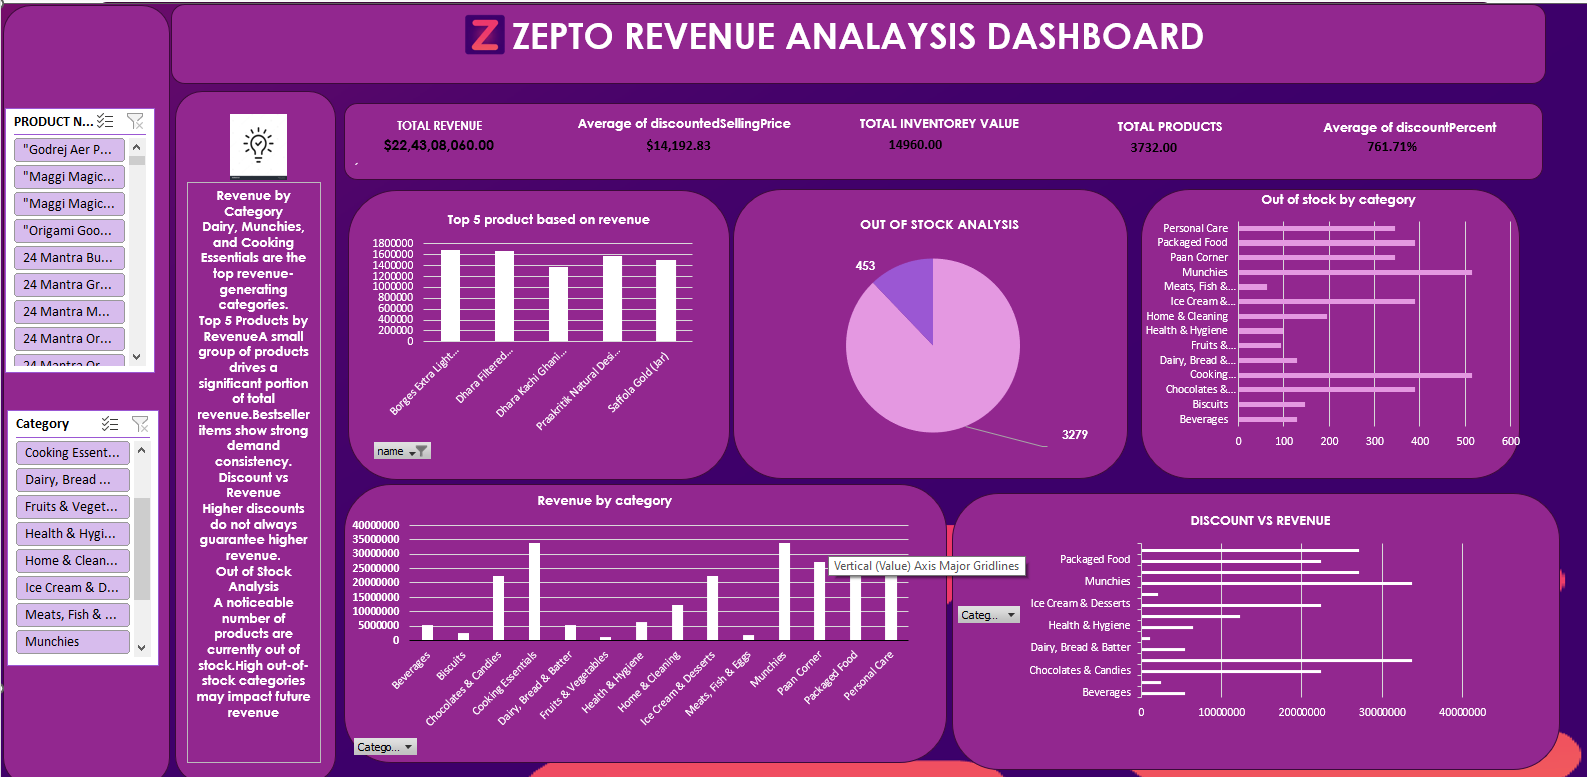

Layout of this report page (visuals, bound fields, positions):
{"tool":"powerbi","page":{"name":"Page 1","canvas":[1280,720],"ordinal":0},"visuals":[{"type":"textbox","box":[749.2,105.7,491.3,70.9],"z":0},{"type":"card","title":"TOTAL REVENUE","fields":{"Values":["zepto_v2.Total revenue"]},"box":[774.7,111.5,220.7,60.4],"z":1000},{"type":"card","title":"AVG DISCOUNT","fields":{"Values":["zepto_v2.AVG DISCOUNT"]},"box":[995.4,112.7,231.1,59.2],"z":2000},{"type":"shape","box":[101.1,10.5,1151.1,84.8],"z":3000},{"type":"shape","box":[0,10.5,91.8,693.4],"z":4000},{"type":"shape","box":[111.5,105.7,162.6,598.2],"z":4001},{"type":"shape","box":[295,105.7,440.2,70.9],"z":4002},{"type":"shape","box":[304.3,196.3,454.2,239.3],"z":4003},{"type":"shape","box":[786.4,196.3,454.2,239.3],"z":4004},{"type":"shape","box":[295,447.2,309,239.3],"z":4005},{"type":"shape","box":[612.1,447.2,311.3,239.3],"z":4006},{"type":"shape","box":[935,447.2,317.1,239.3],"z":4007},{"type":"image","box":[339.2,20.9,126.6,63.9],"z":4009},{"type":"slicer","fields":{"Values":["zepto_v2.Category"]},"box":[312.5,111.5,203.3,60.4],"z":4010},{"type":"slicer","fields":{"Values":["zepto_v2.name"]},"box":[522.7,111.5,203.3,60.4],"z":4011},{"type":"barChart","title":"TOP 4 PERFORMING CATEGORY BASED ON REVENUE","fields":{"Category":["zepto_v2.Category"],"Y":["zepto_v2.Total revenue"]},"box":[624.9,470.4,283.4,191.7],"z":4012},{"type":"barChart","title":"BOTTOM 3 PERFORMING CATEGORY BASED ON REVENUE","fields":{"Category":["zepto_v2.Category"],"Y":["zepto_v2.Total revenue"]},"box":[957.1,462.3,269.5,204.4],"z":4013},{"type":"scatterChart","title":"DISCOUNT VS REVENUE","fields":{"Category":["zepto_v2.Category"],"X":["Sum(zepto_v2.discountPercent)"],"Y":["zepto_v2.Total revenue"],"Size":["Sum(zepto_v2.availableQuantity)"],"Series":["zepto_v2.Category"]},"box":[326.4,216,410,199.8],"z":4014},{"type":"clusteredBarChart","title":"TOP 5 PERFORMING  PRICE PER GRAM ANALYSIS","fields":{"Y":["Sum(zepto_v2.Price Per Gram)"],"Category":["zepto_v2.name"]},"box":[304.3,470.4,283.4,191.7],"z":4015},{"type":"lineChart","title":"REVENUE BY CATEGORY","fields":{"Category":["zepto_v2.Category"],"Y":["CountNonNull(zepto_v2.Slow Moving)"]},"box":[808.4,216,410,199.8],"z":4016},{"type":"textbox","box":[122,188.2,141.7,504.1],"z":4017},{"type":"image","box":[146.4,112.7,92.9,75.5],"z":4019}]}

Visuals, with their boxes on the page's 1280x720 design canvas (x1, y1, x2, y2). These are canvas units, not pixel positions in the 1587x777 screenshot, which may show the page scaled, cropped or inside an application window:
textbox: crop(749, 106, 1240, 177)
"TOTAL REVENUE" card: crop(775, 112, 995, 172)
"AVG DISCOUNT" card: crop(995, 113, 1226, 172)
shape: crop(101, 10, 1252, 95)
shape: crop(0, 10, 92, 704)
shape: crop(112, 106, 274, 704)
shape: crop(295, 106, 735, 177)
shape: crop(304, 196, 758, 436)
shape: crop(786, 196, 1241, 436)
shape: crop(295, 447, 604, 686)
shape: crop(612, 447, 923, 686)
shape: crop(935, 447, 1252, 686)
image: crop(339, 21, 466, 85)
slicer - zepto_v2.Category: crop(312, 112, 516, 172)
slicer - zepto_v2.name: crop(523, 112, 726, 172)
"TOP 4 PERFORMING CATEGORY BASED ON REVENUE" barChart: crop(625, 470, 908, 662)
"BOTTOM 3 PERFORMING CATEGORY BASED ON REVENUE" barChart: crop(957, 462, 1227, 667)
"DISCOUNT VS REVENUE" scatterChart: crop(326, 216, 736, 416)
"TOP 5 PERFORMING  PRICE PER GRAM ANALYSIS" clusteredBarChart: crop(304, 470, 588, 662)
"REVENUE BY CATEGORY" lineChart: crop(808, 216, 1218, 416)
textbox: crop(122, 188, 264, 692)
image: crop(146, 113, 239, 188)
